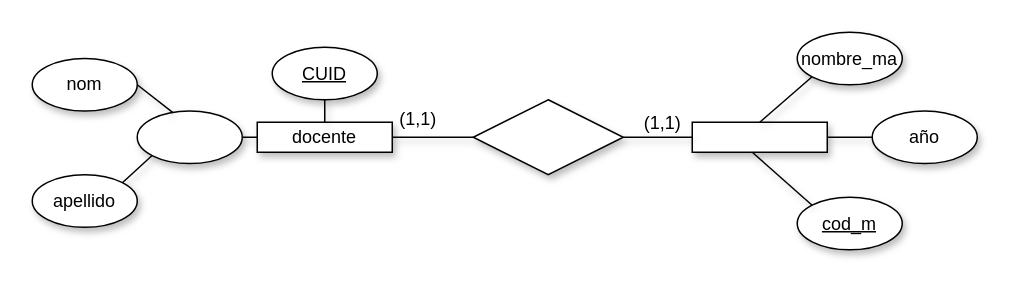
The diagram is 1013 pixels wide and 287 high, and some of its shapes have lost their labels. The shapes that lost their labels are listed below. From the top down, each one's centre as x and y in pixels, then its label:
the point at 190,139: nombre
the point at 549,138: participa_en
the point at 760,139: materia
